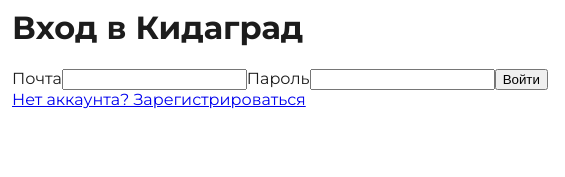
Scenario: LoginPage › shows a dictionary error message when login fails
In the field labelled "Почта": (154, 79) [62,69,247,90], type "player@example.com"
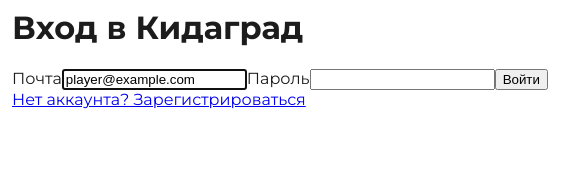
In the password field labelled "Пароль": (402, 79) [310,69,495,90], type "wrongpass1"
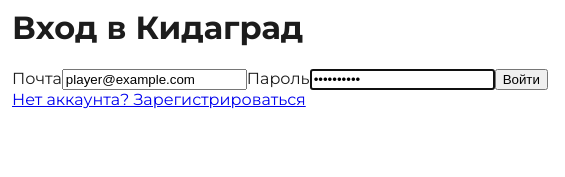
Click the button "Войти": (521, 79) [495,69,548,90]
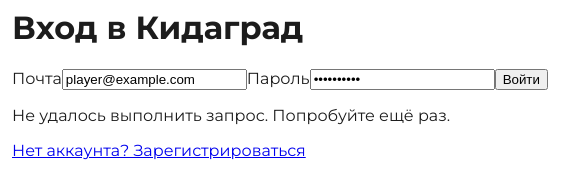
Expected: the message reads "Не удалось выполнить запрос. Попробуйте ещё раз.", [12,106,450,125]
